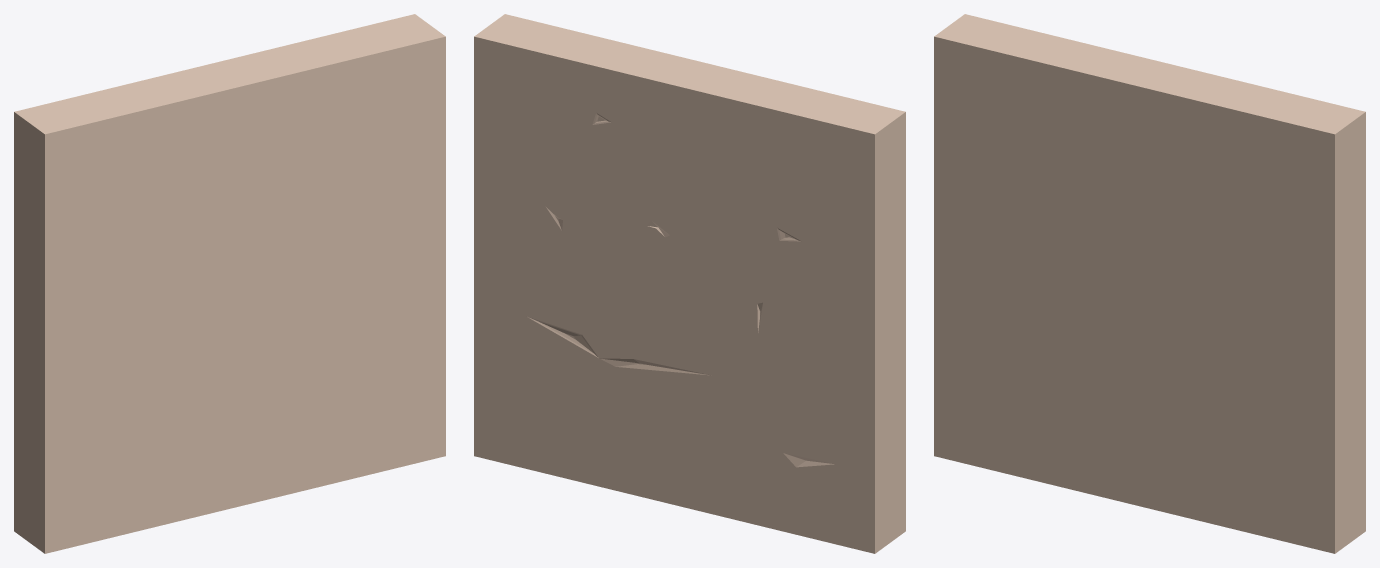
The model's file is greek_wall_2.fbx.
The picture shows the model from 3 angles, left to right: view 1: azimuth 30°, elevation 25°; view 2: azimuth 150°, elevation 25°; view 3: azimuth 330°, elevation 25°; orthographic projection.
Parts seen in each view (by area): view 1: Cube.020; view 2: Cube.020; view 3: Cube.020.
Boxes of the visible parts, x1=… form: Cube.020: x1=14, y1=14, x2=445, y2=553; Cube.020: x1=474, y1=14, x2=905, y2=553; Cube.020: x1=934, y1=14, x2=1365, y2=553.
Bounding box in the file's own units: 300 × 300 × 40.
